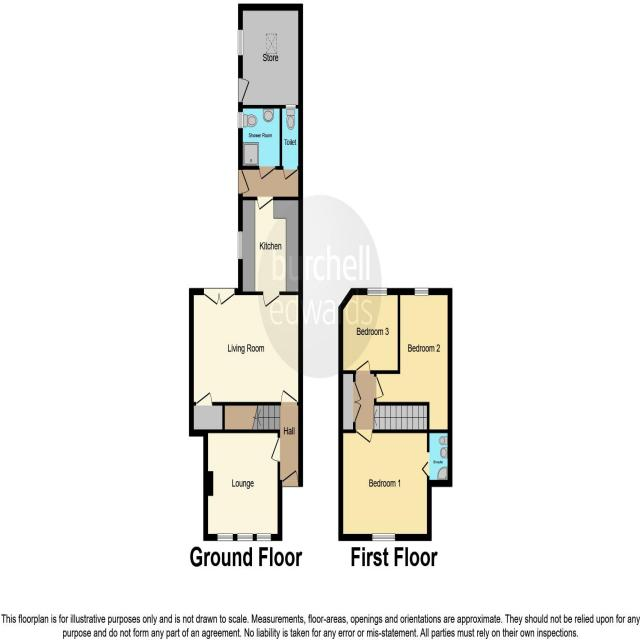DOOR: (204, 288, 235, 305), (281, 469, 299, 487), (238, 169, 250, 194), (281, 389, 298, 406), (238, 78, 250, 102), (263, 291, 280, 307), (374, 375, 384, 400), (196, 392, 213, 406), (356, 429, 373, 443), (271, 437, 280, 462), (257, 196, 273, 210), (356, 359, 370, 374), (259, 167, 275, 180), (283, 167, 298, 180)
ROOM: (189, 287, 303, 406), (374, 288, 453, 433), (338, 429, 432, 542), (203, 429, 283, 542), (238, 196, 303, 310), (338, 287, 401, 375)
WINDOW: (372, 533, 395, 541), (367, 287, 387, 295), (238, 30, 244, 55), (238, 231, 243, 260), (217, 533, 233, 541), (237, 533, 253, 541), (257, 533, 271, 541), (414, 288, 428, 295), (238, 112, 243, 129)
